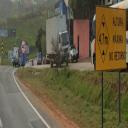speed_limit_40: (21, 40, 26, 54)
